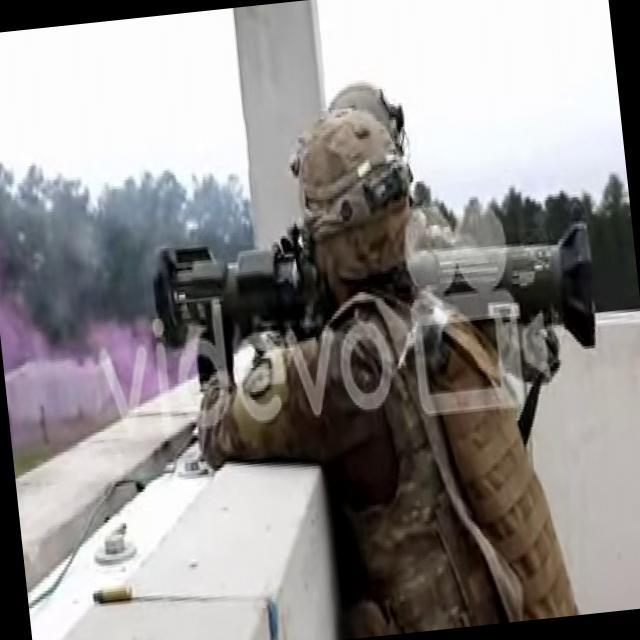rocket: (150, 210, 596, 392)
